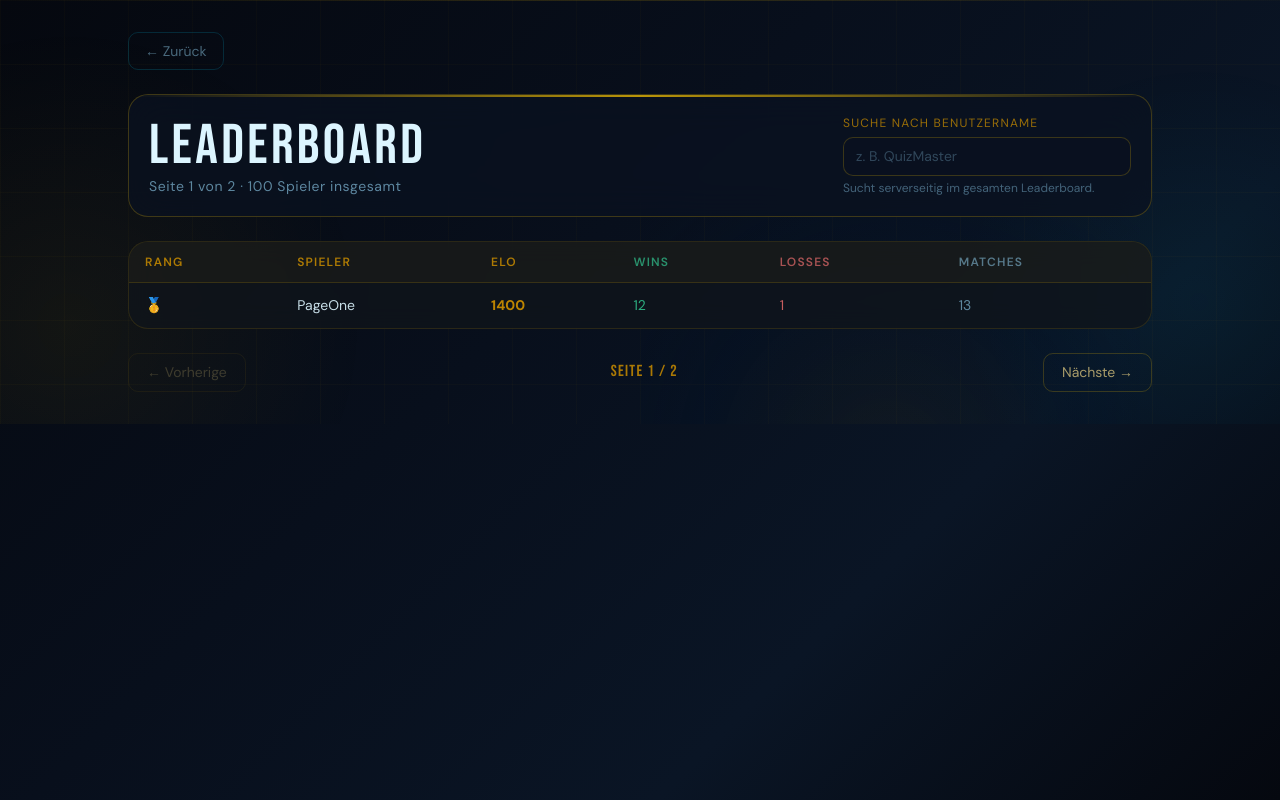
it: LeaderboardPage › paginates to next page
Check: the text "PageOne" is shown, box [281,282,475,328]
Click the button with aria-label "naechste seite" at (1098, 372), box [1043,353,1152,392]
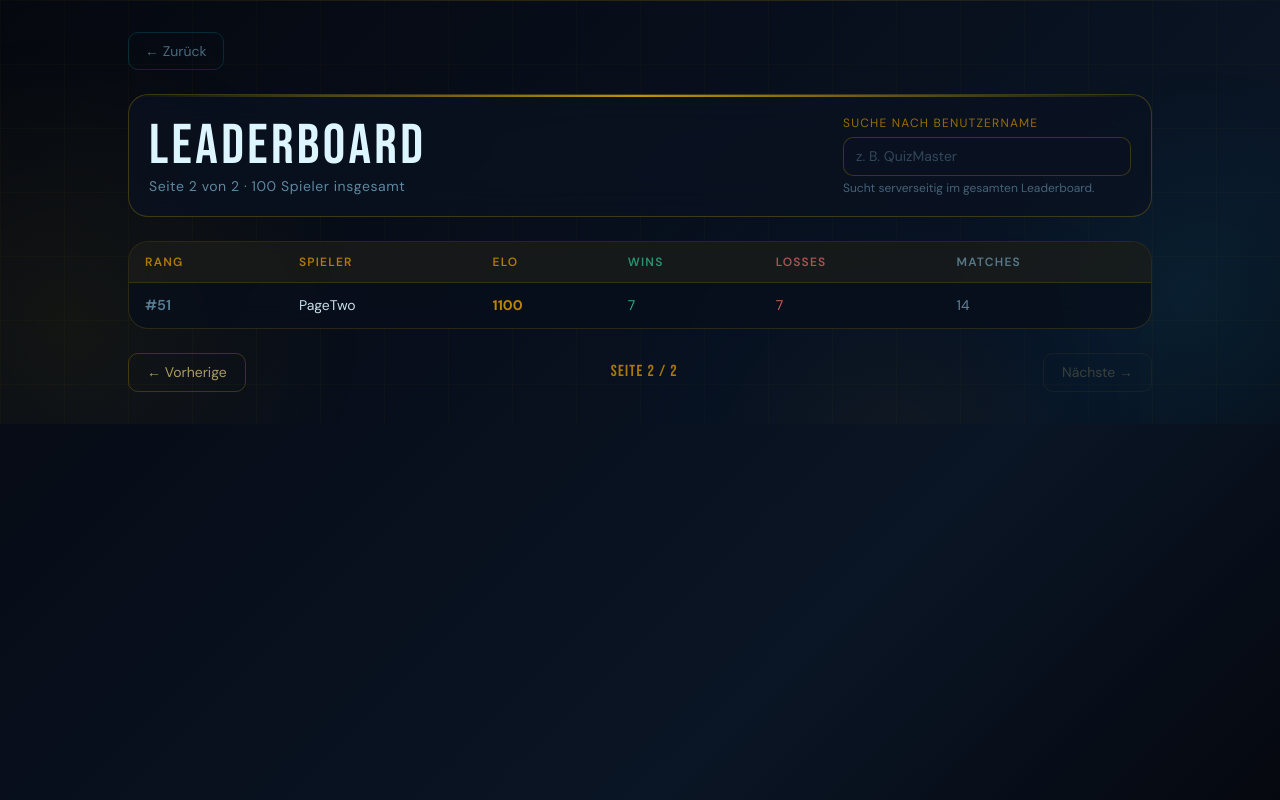
Check: the text "PageTwo" is shown, box [283,282,477,328]
